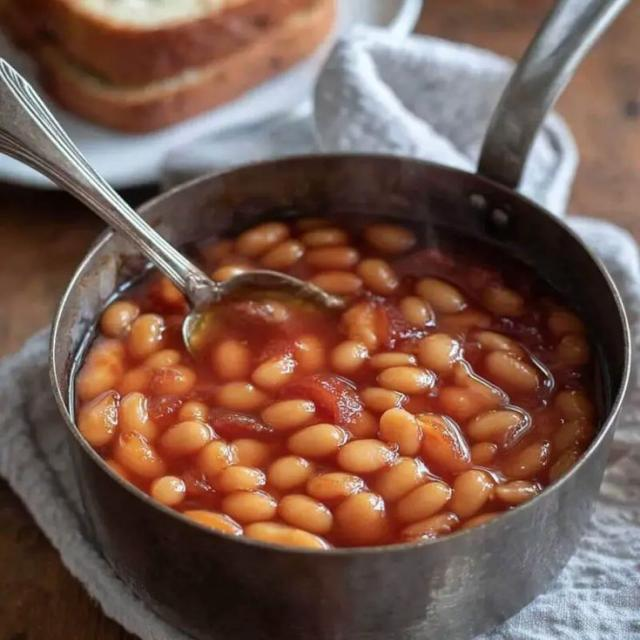beans: (75, 219, 599, 548), (417, 414, 470, 472), (76, 340, 124, 400), (335, 493, 389, 544), (466, 409, 532, 449), (454, 361, 508, 409), (114, 432, 165, 479), (373, 458, 427, 501), (78, 391, 119, 447), (397, 481, 451, 523), (449, 470, 494, 519), (245, 523, 330, 548), (486, 352, 539, 392), (278, 495, 332, 534), (288, 424, 348, 458), (379, 408, 422, 455), (337, 440, 396, 474), (342, 302, 381, 352), (118, 393, 158, 441), (236, 223, 289, 257), (502, 442, 550, 479), (222, 491, 277, 523), (416, 278, 466, 313), (76, 363, 122, 401), (160, 422, 212, 455), (128, 314, 165, 359), (307, 472, 364, 501), (418, 334, 460, 373), (252, 353, 296, 390), (401, 513, 459, 541), (267, 456, 313, 491), (212, 340, 251, 381), (262, 400, 315, 430), (377, 367, 435, 394), (364, 224, 416, 254), (217, 382, 268, 412), (438, 387, 483, 421), (197, 441, 237, 479), (357, 259, 399, 295), (183, 510, 242, 535), (150, 365, 196, 395), (438, 309, 491, 335), (101, 301, 139, 337), (553, 419, 593, 453), (473, 331, 523, 357), (331, 340, 368, 375), (261, 240, 304, 270), (216, 466, 265, 492), (483, 286, 524, 316), (306, 247, 359, 270), (294, 335, 325, 373), (311, 272, 362, 295), (399, 296, 434, 329), (361, 388, 407, 413), (555, 391, 594, 420), (232, 438, 271, 467), (494, 480, 540, 504), (150, 476, 186, 506), (117, 367, 154, 395), (549, 448, 580, 481), (557, 335, 589, 366), (548, 311, 585, 337), (301, 228, 348, 247), (158, 277, 186, 306), (370, 353, 417, 370), (202, 239, 235, 263), (350, 410, 378, 437), (144, 350, 181, 369), (178, 401, 208, 422), (461, 513, 500, 529), (211, 265, 250, 281), (471, 442, 498, 465), (106, 459, 130, 481), (296, 217, 330, 232)
